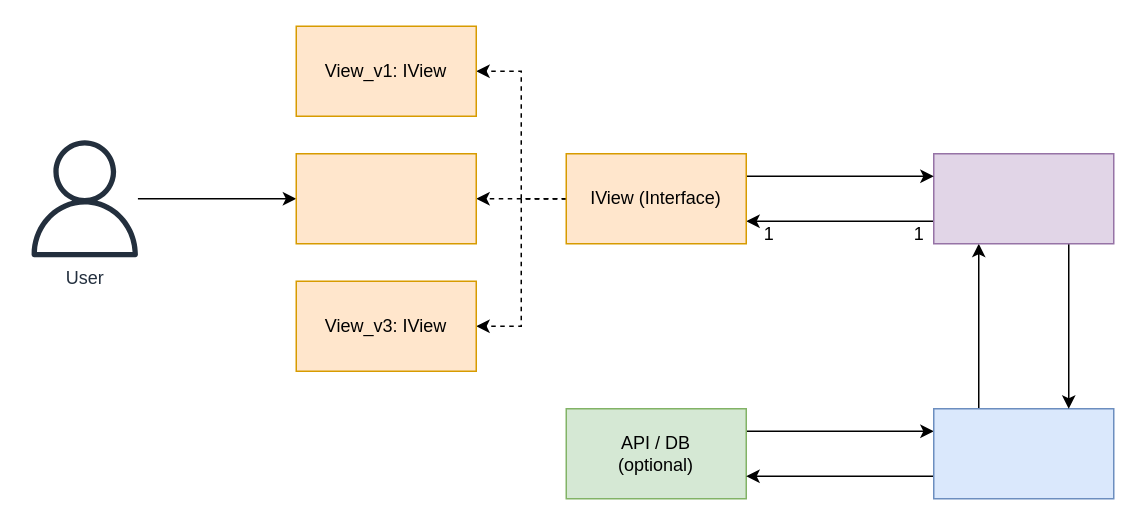
The diagram is 1140 pixels wide and 525 high, and some of its shapes have lost their labels. The centre of each missing label's shape, as x and y in pixels:
"Model" belongs at [1023,453].
"Presenter" belongs at [1023,198].
"View_v2: IView" belongs at [385,198].
